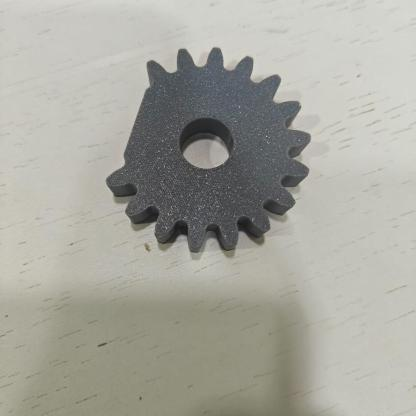defect: (97, 54, 182, 187)
gear: (78, 32, 342, 276)
